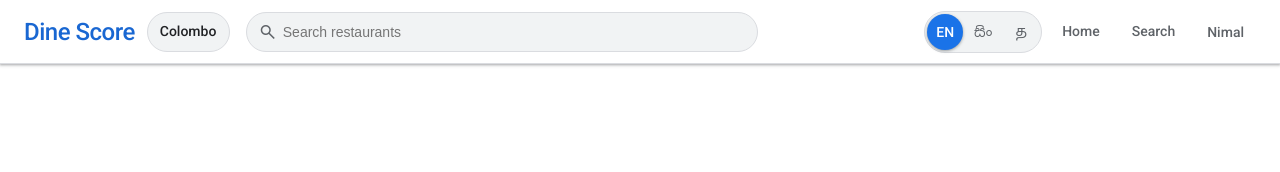
Test: navigation components › TopNavComponent shows the user name instead of Login, with Logout in a menu
expect the text "Login" is not shown: met
Click the button with class "user-button" at (1226, 32), box [1195,10,1256,54]
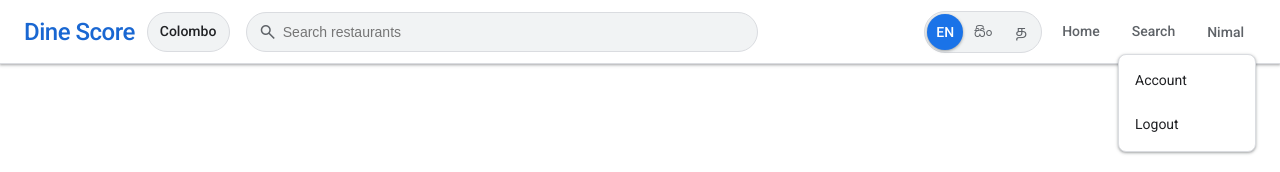
Click the menu item "Logout" at (1187, 124), box [1123,102,1251,146]
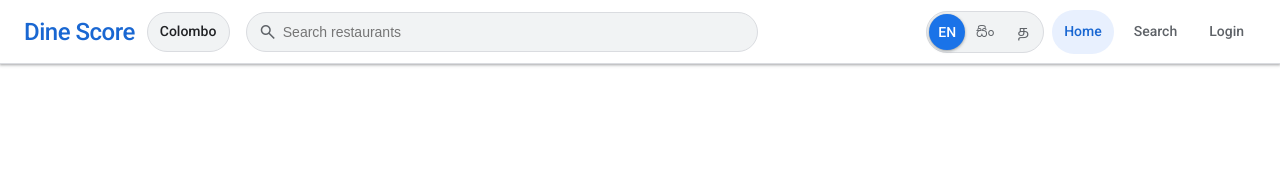
expect the text "Login" is shown: met, box [1209,23,1244,39]
